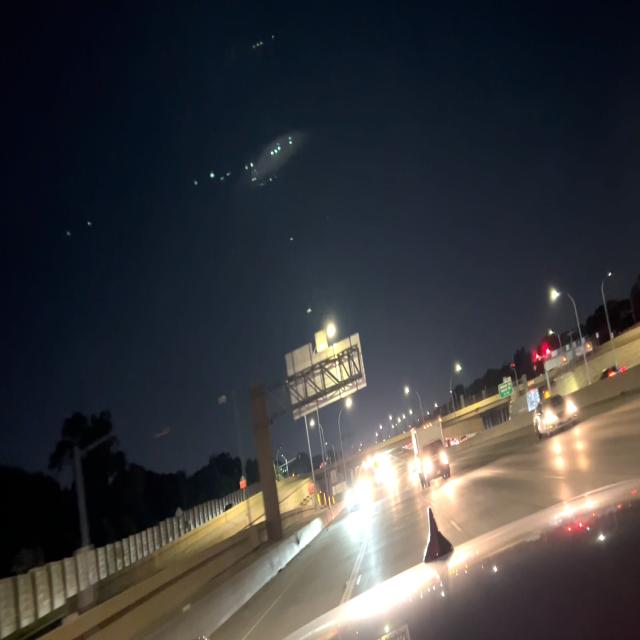back-of-sign: (284, 329, 367, 421)
